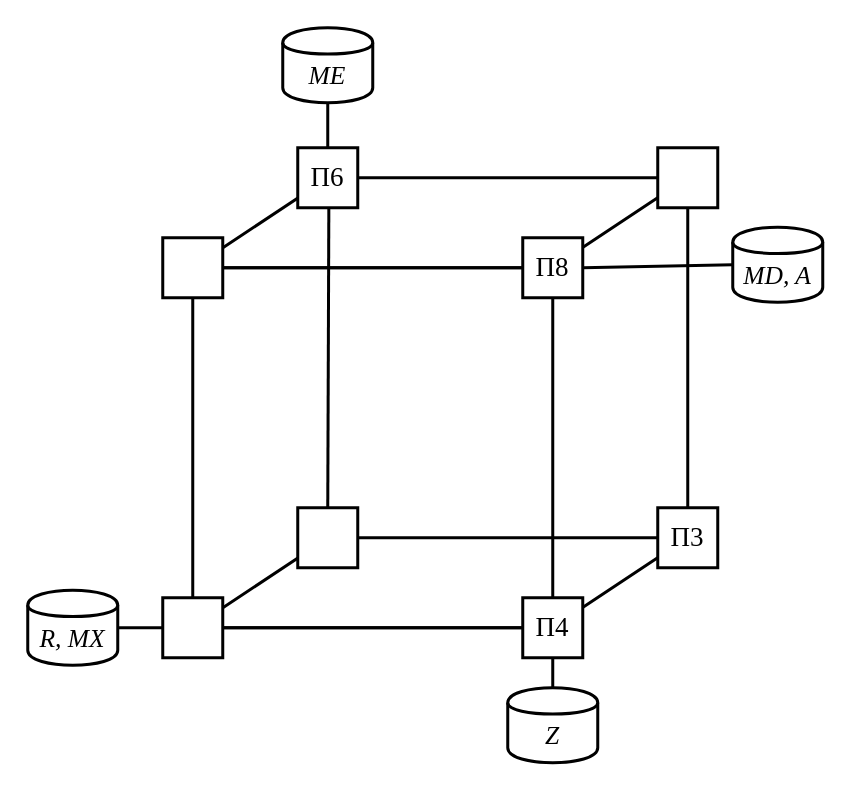
Image size: 849x789. Some labels were removed from this diagram. Each missing label, with the box of its shape:
П1: (160, 596, 224, 658)
П2: (296, 506, 358, 568)
П5: (160, 236, 224, 298)
П7: (656, 146, 718, 208)
